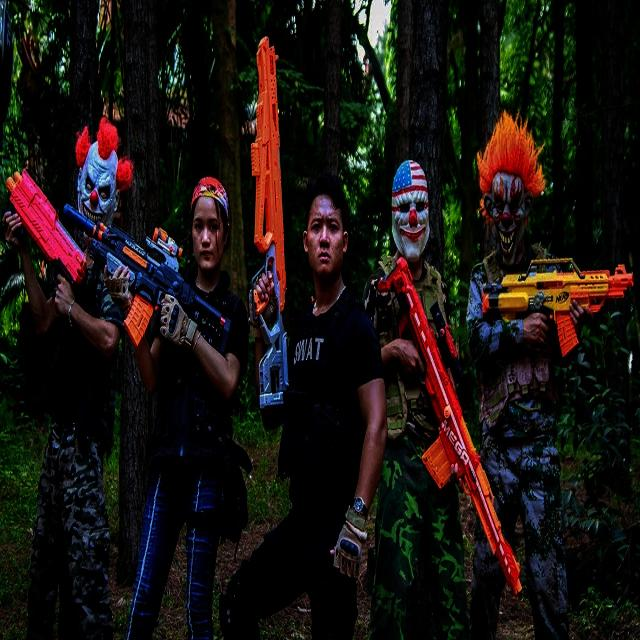Nerf gun: (370, 251, 524, 608), (58, 195, 234, 367), (238, 28, 298, 413), (480, 248, 640, 362), (1, 159, 85, 325)
